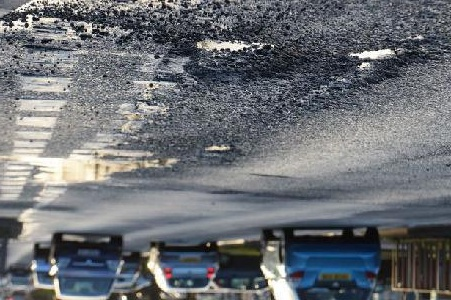pothole: (184, 36, 290, 79), (337, 47, 423, 91), (204, 143, 234, 155)
